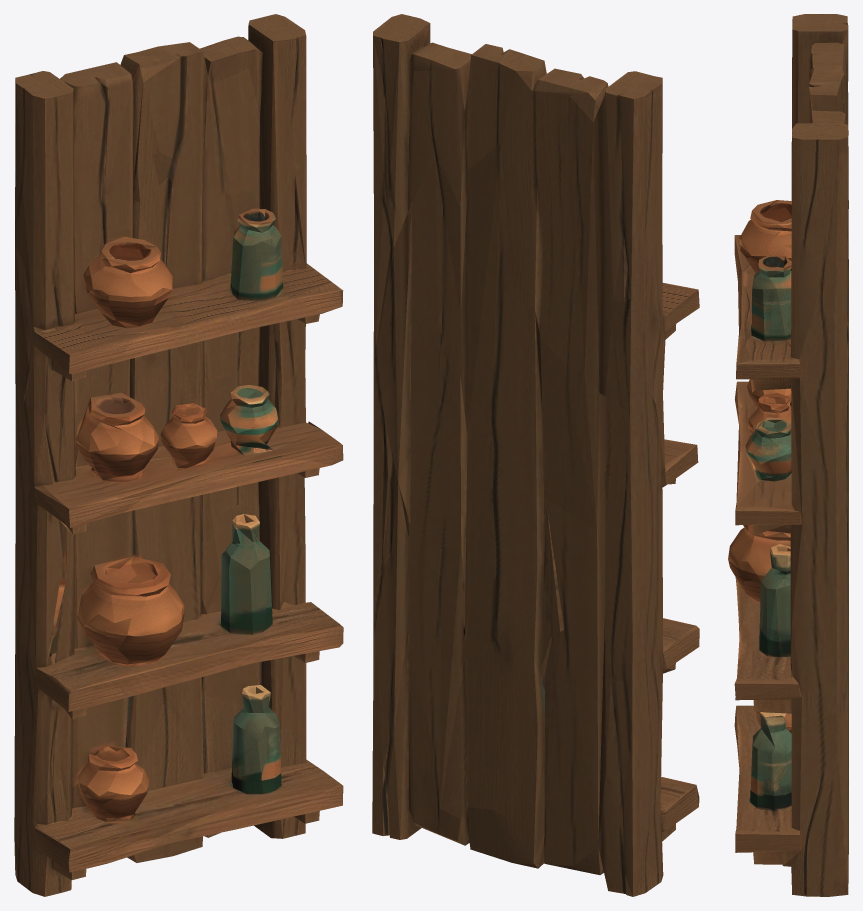
The model's file is shelf.hq.glb.
3 renders of one model, left to right at view 1: azimuth 30°, elevation 25°; view 2: azimuth 150°, elevation 25°; view 3: azimuth 270°, elevation 25°, orthographic. The views are drawn at different scales.
Parts seen in each view (by area): view 1: output_unwrapped; view 2: output_unwrapped; view 3: output_unwrapped.
Part boxes in pixels (x1,y1,x2,y2): output_unwrapped: (14,14,343,896); output_unwrapped: (372,14,699,896); output_unwrapped: (728,14,848,896).
Bounding box in the file's own units: 0.6867 × 1.9 × 0.2746.
Materials: 1 (1 with a texture image).
